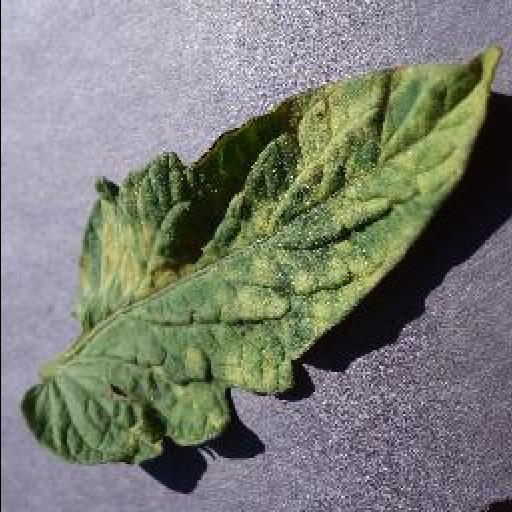disease_tomato: (22, 44, 502, 466)
